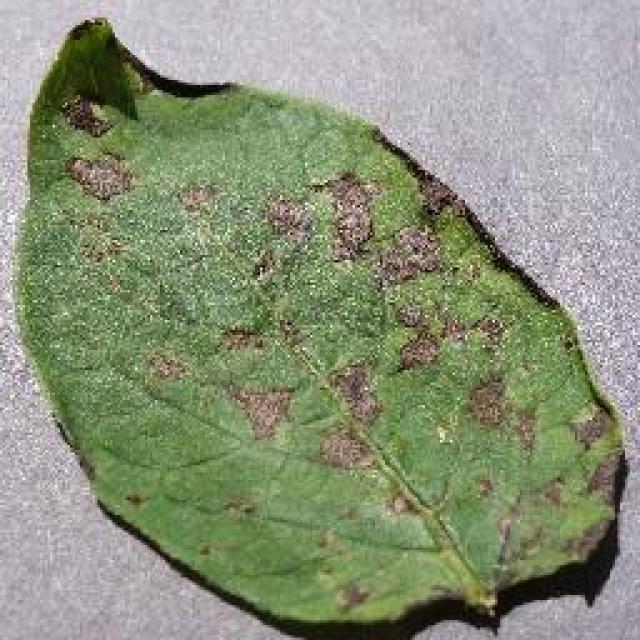Potato: (10, 15, 625, 637)
